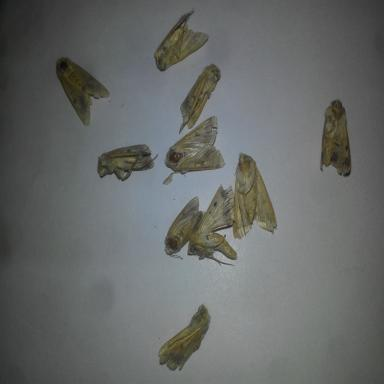abw: (186, 181, 242, 270), (51, 52, 112, 130), (231, 149, 280, 242), (154, 297, 213, 373), (162, 113, 230, 175), (150, 5, 212, 73), (313, 93, 357, 178), (175, 58, 222, 136), (159, 193, 210, 261), (94, 142, 160, 184)
